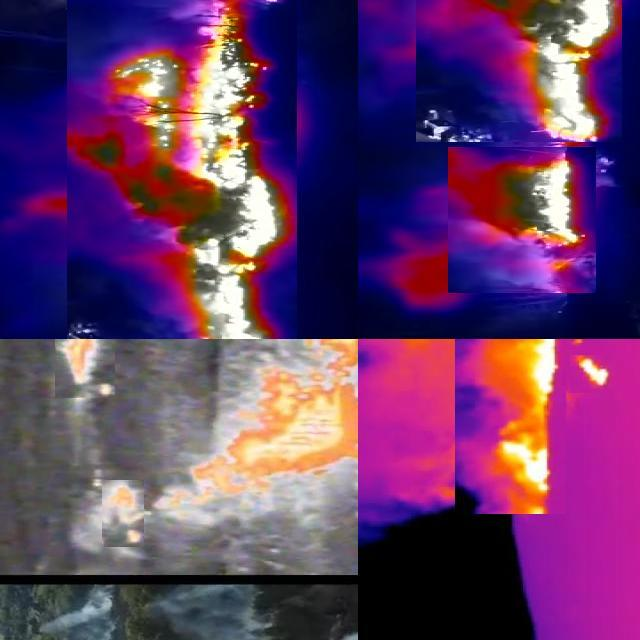fire: (68, 1, 298, 340), (165, 364, 359, 518), (417, 1, 623, 142), (450, 147, 598, 293), (456, 340, 567, 514), (56, 340, 116, 398), (103, 480, 145, 547), (571, 355, 618, 393)
